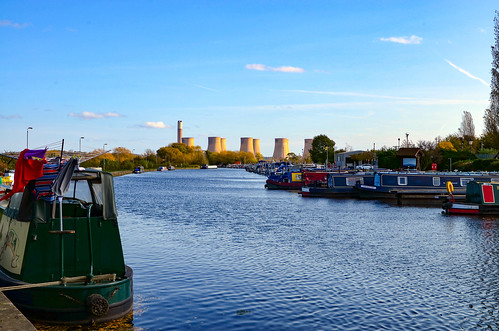boat: (1, 160, 156, 321), (354, 176, 499, 206), (305, 169, 369, 196)
building: (237, 135, 268, 159), (270, 132, 293, 159), (207, 136, 229, 155), (174, 131, 195, 150)
river: (97, 161, 495, 331)
sky: (1, 1, 492, 129)
